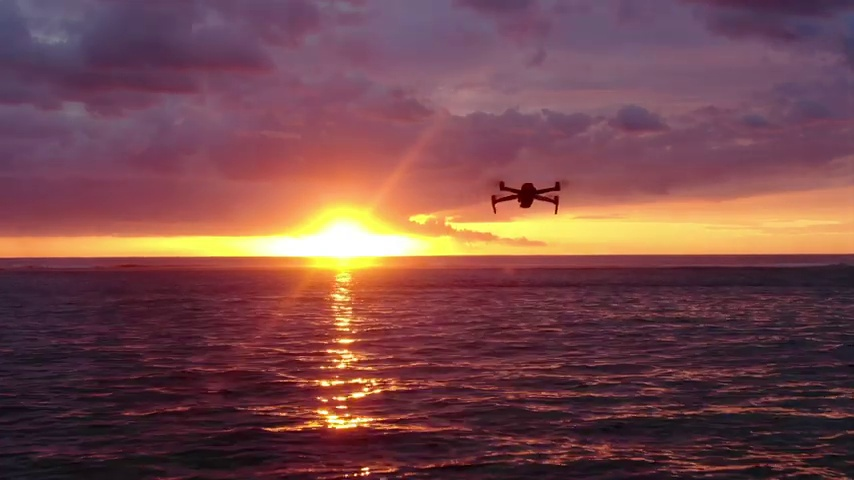drone: (490, 178, 561, 217)
